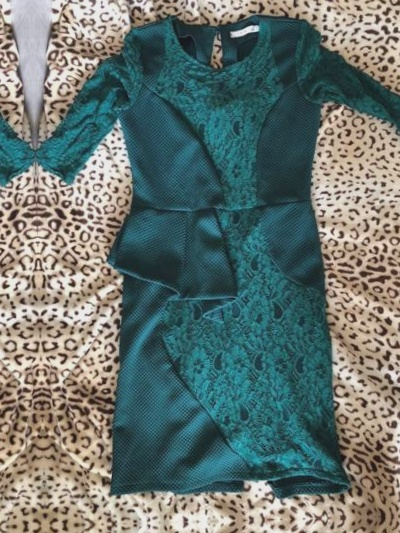Dress: (32, 0, 400, 510), (0, 0, 43, 520), (47, 532, 400, 533)
